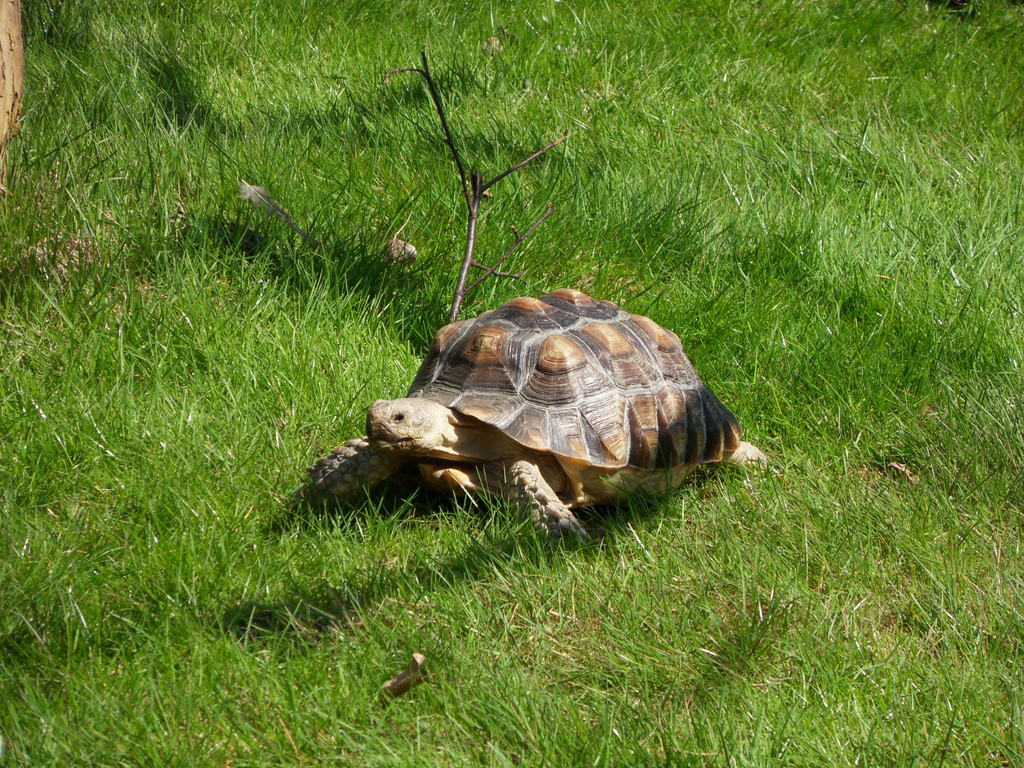Sea turtles: (305, 286, 768, 551)
